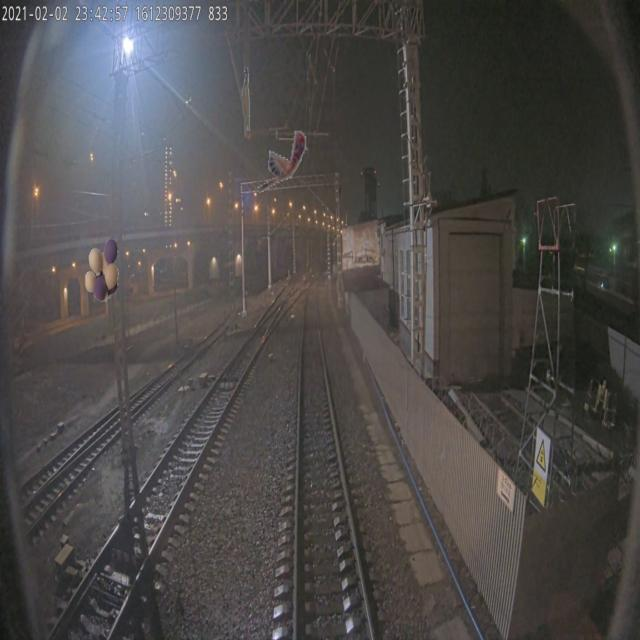balloon: (85, 238, 119, 302)
floating object: (255, 129, 307, 193), (242, 66, 256, 130)
